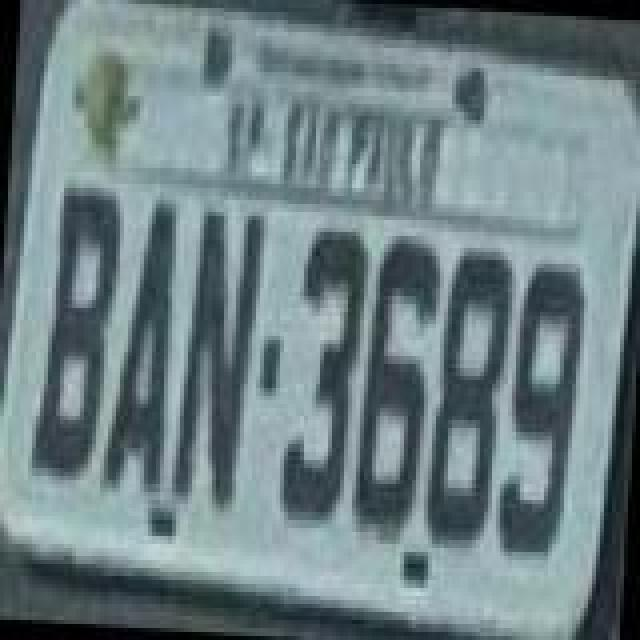3: (274, 222, 374, 530)
6: (352, 230, 448, 538)
8: (424, 248, 520, 552)
9: (496, 256, 592, 560)
A: (102, 194, 186, 494)
B: (28, 184, 124, 480)
N: (166, 208, 266, 512)
